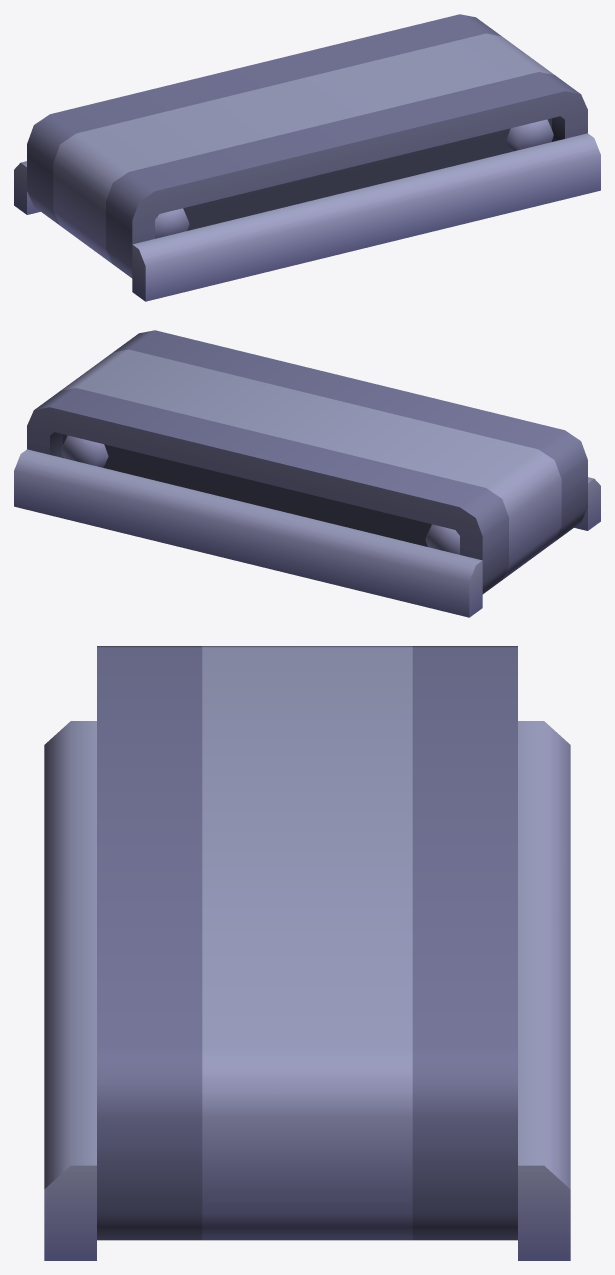
The model's file is kenney-conveyor-conveyor-long-stripe-sides.glb.
The picture shows the model from 3 angles, top to bottom: view 1: azimuth 30°, elevation 25°; view 2: azimuth 150°, elevation 25°; view 3: azimuth 270°, elevation 25°; orthographic projection. The views are drawn at different scales.
Parts seen in each view (by area): view 1: conveyor-long-stripe-sides; view 2: conveyor-long-stripe-sides; view 3: conveyor-long-stripe-sides.
Part boxes in pixels (x1,y1,x2,y2): conveyor-long-stripe-sides: [14, 14, 600, 301]; conveyor-long-stripe-sides: [14, 330, 600, 617]; conveyor-long-stripe-sides: [44, 646, 570, 1260].
Bounding box in the file's own units: 2 × 0.3999 × 1.
1 material, 1 textured.
